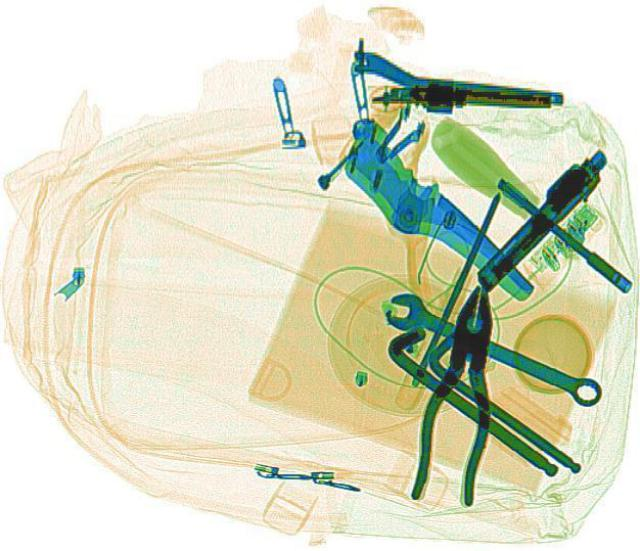Gun: (460, 140, 620, 293), (353, 48, 563, 113)
Pliers: (404, 279, 514, 505)
Wrench: (376, 286, 612, 412)
